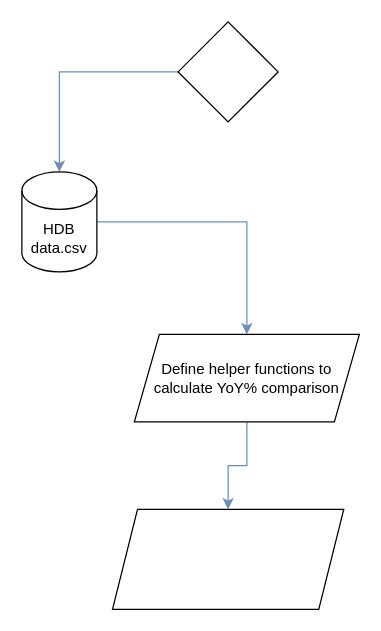
This 381x631 diagram has some shape labels left out. The centre of each missing label's shape, as x and y in pixels:
"Plot relevant charts to allow for interaction capabilities" belongs at point 227,558.
"Start" belongs at point 227,71.
